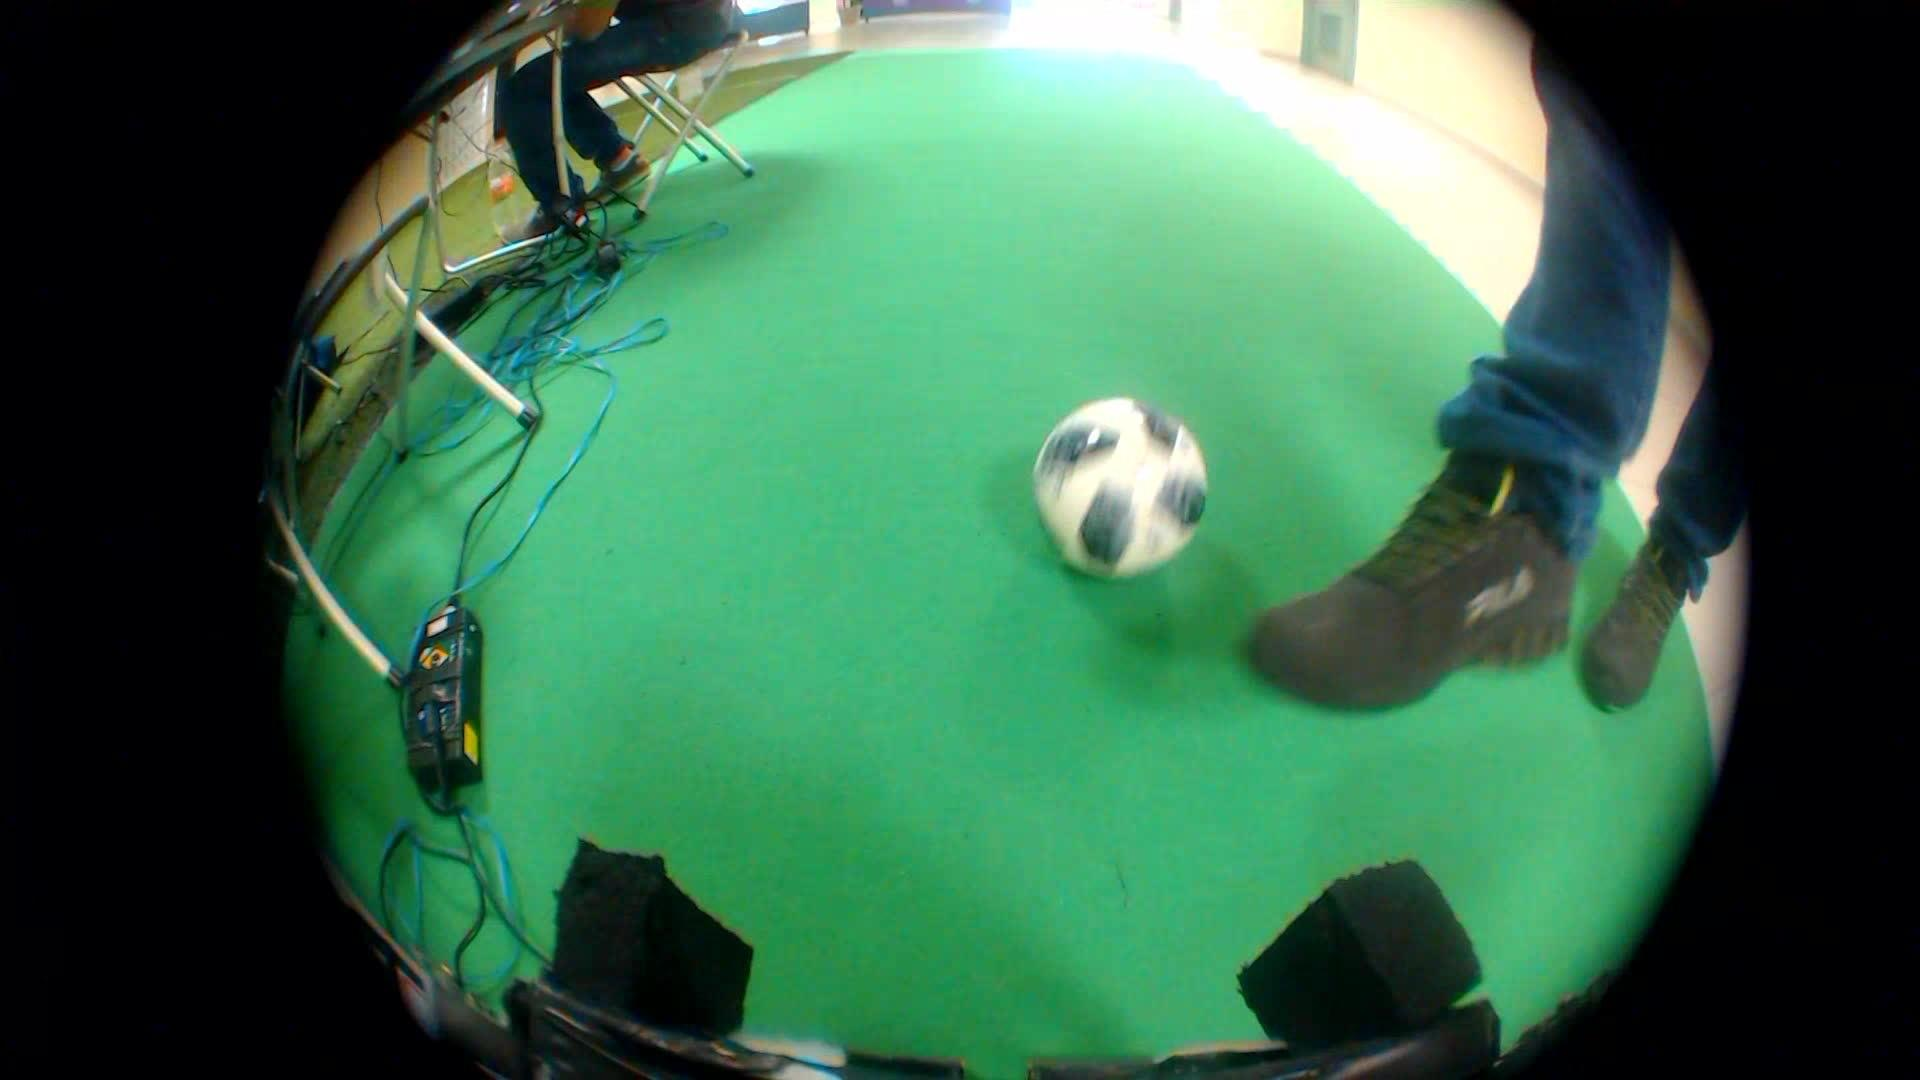ball: (1007, 380, 1226, 597)
